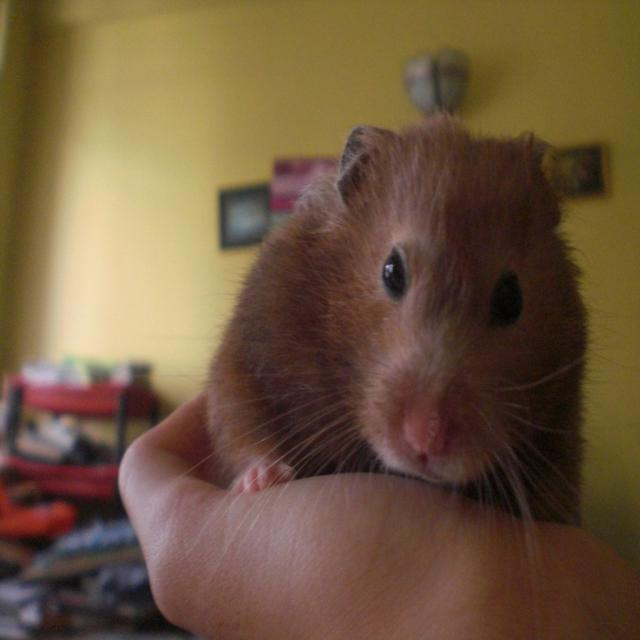rat: (203, 116, 592, 522)
